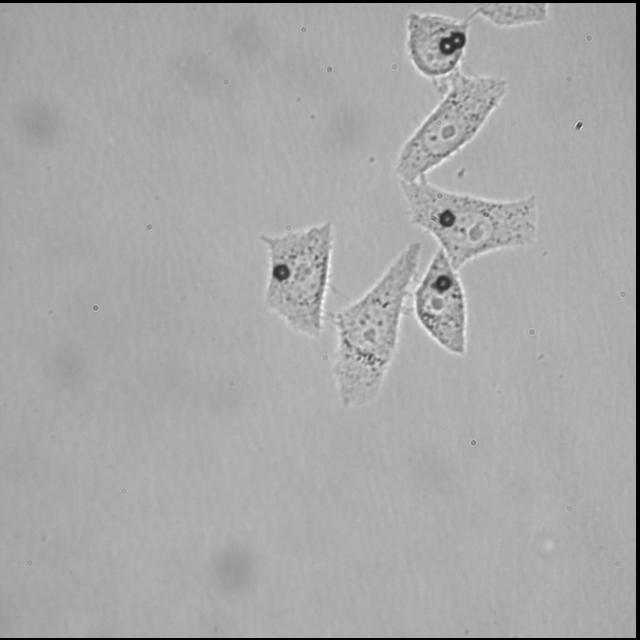microbeads: (436, 210, 456, 230), (438, 36, 456, 54), (449, 29, 466, 47), (274, 265, 290, 281), (436, 274, 452, 290)
